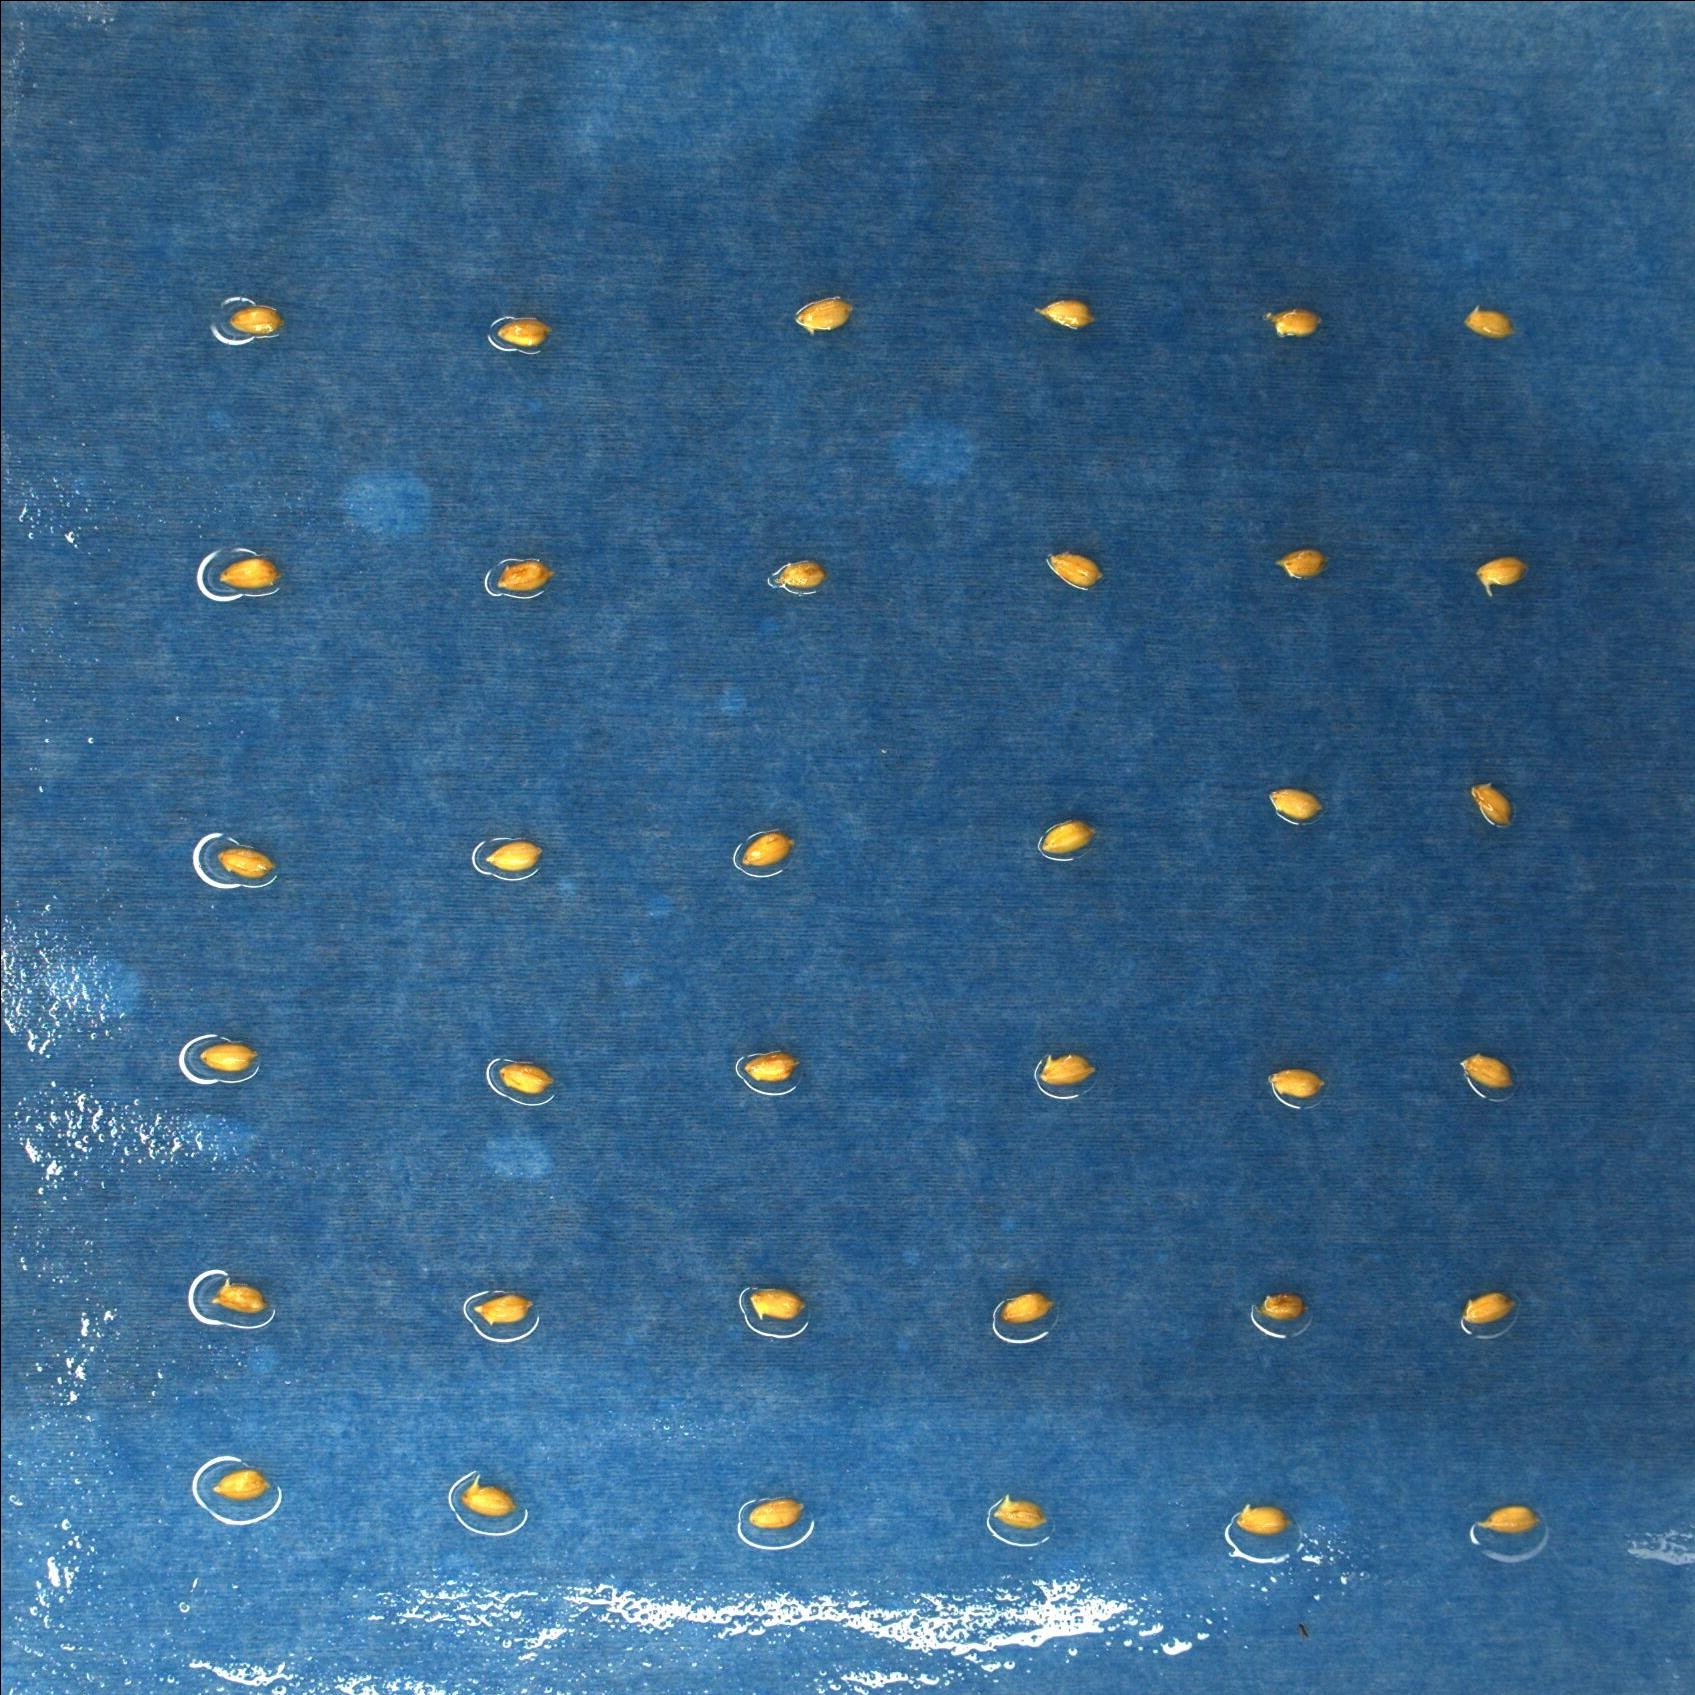not sprout: (213, 553, 286, 596), (740, 827, 806, 871), (459, 1473, 517, 1521), (1458, 1048, 1516, 1094), (1043, 549, 1107, 591), (1035, 300, 1096, 343), (1040, 816, 1101, 860), (1035, 1051, 1094, 1093), (796, 295, 855, 335), (1473, 557, 1527, 601), (1232, 1501, 1293, 1540), (1263, 787, 1329, 823), (210, 1281, 269, 1319), (472, 1293, 536, 1329), (497, 560, 557, 598), (1458, 1291, 1515, 1330), (987, 1495, 1055, 1527), (775, 556, 827, 598), (481, 837, 542, 872), (1000, 1291, 1057, 1329), (744, 1496, 809, 1529), (1478, 1503, 1543, 1535), (217, 847, 279, 882), (227, 301, 281, 340), (748, 1288, 809, 1322), (213, 1468, 273, 1503), (1464, 304, 1513, 345), (1271, 304, 1327, 340), (1267, 1068, 1327, 1101), (744, 1051, 796, 1088), (494, 317, 556, 348), (199, 1045, 261, 1076), (489, 1065, 553, 1094), (1277, 546, 1326, 585), (1478, 781, 1516, 829), (1257, 1291, 1309, 1322)
